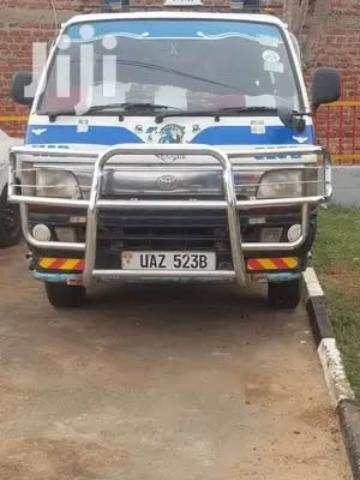van: (8, 2, 337, 308)
